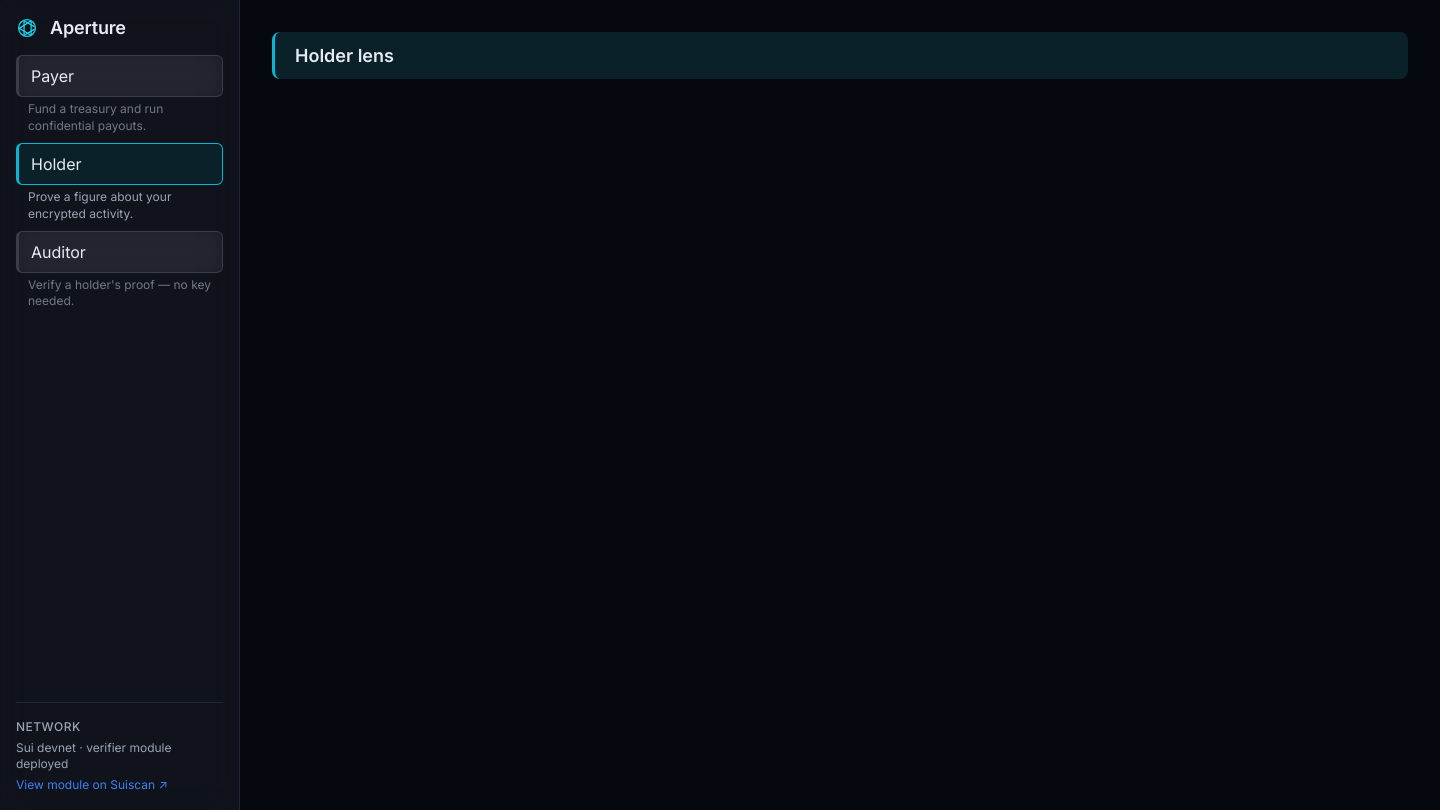
Test: RoleSwitcher shell (AC-6) › re-lenses on role switch (banner + accent follow the active role)
Click the button "Auditor": [120, 252] box 16,231 -> 223,273
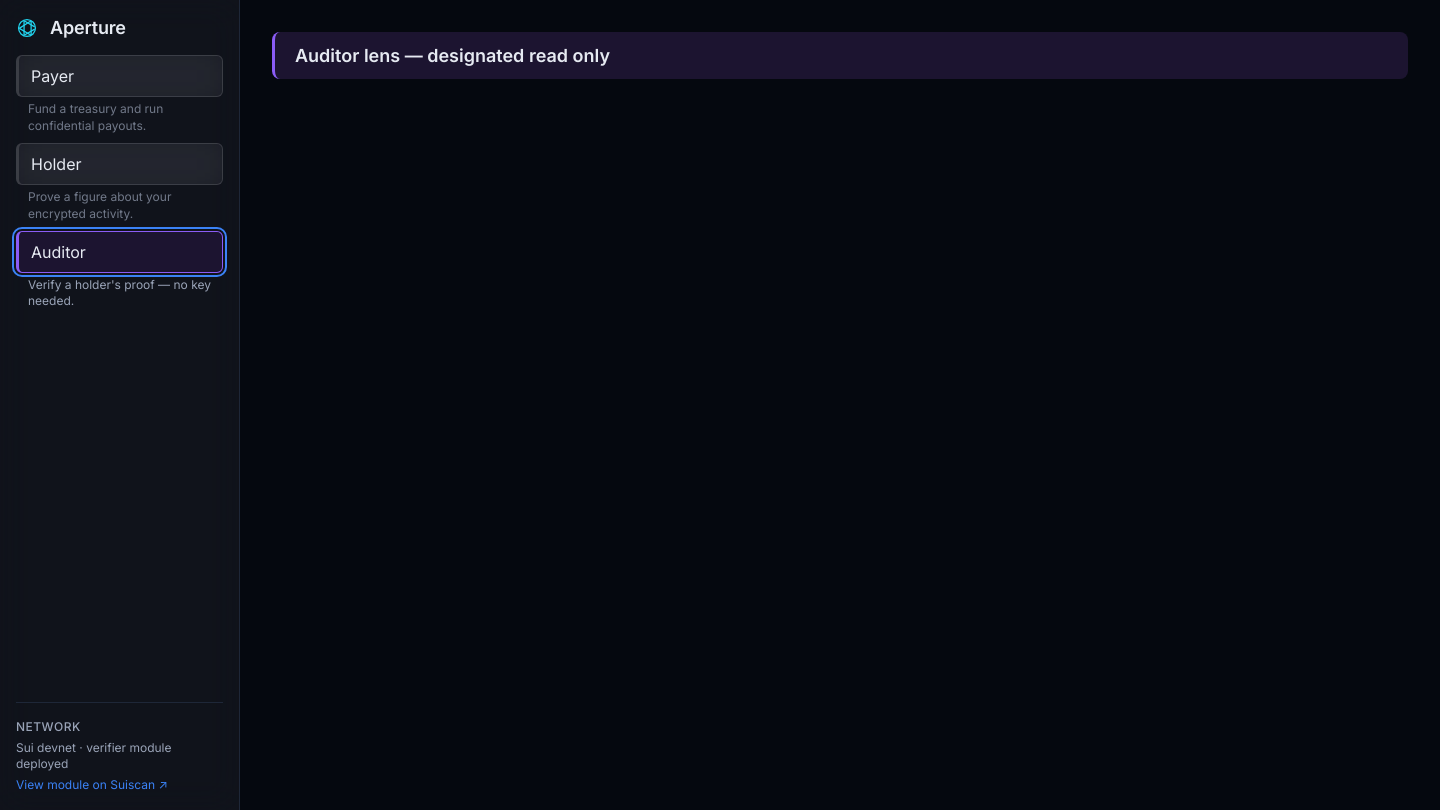
expect the text "Auditor lens — designated read only" is shown: met, box 272,32 -> 1408,79
